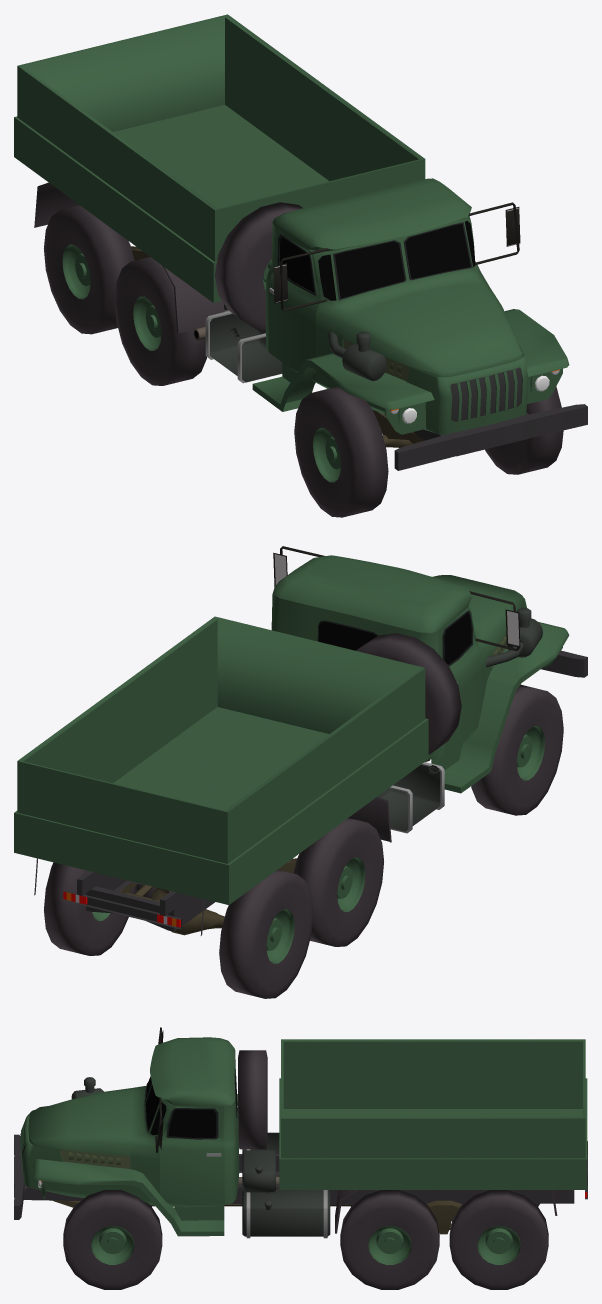
The model's file is ural4320-cargo.glb.
3 renders of one model, top to bottom at view 1: azimuth 30°, elevation 25°; view 2: azimuth 150°, elevation 25°; view 3: azimuth 270°, elevation 25°, orthographic. The views are drawn at different scales.
Parts seen in each view (by area): view 1: Object_4; view 2: Object_4; view 3: Object_4.
Part boxes in pixels (bbox=[...]): Object_4: bbox=[14, 14, 587, 517]; Object_4: bbox=[14, 546, 587, 998]; Object_4: bbox=[14, 1027, 587, 1289].
Bounding box in the file's own units: 2.81 × 2.65 × 7.36.
1 material, 1 textured.
